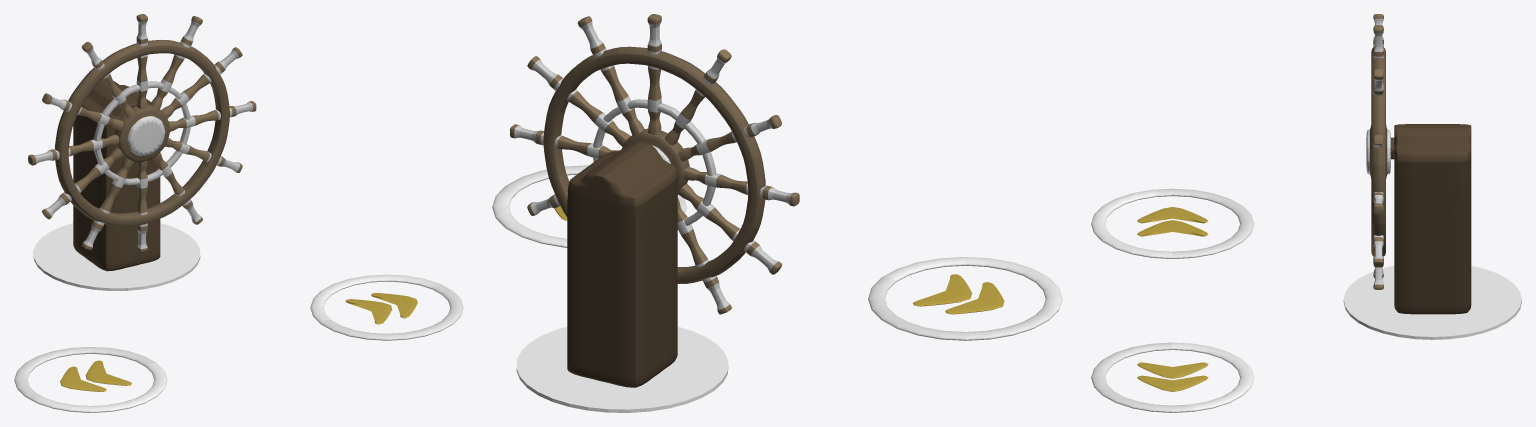
3 views of the same model, side by side, from view 1: azimuth 30°, elevation 25°; view 2: azimuth 150°, elevation 25°; view 3: azimuth 270°, elevation 25° (orthographic). The views are drawn at different scales.
Visible parts, largest first — view 1: WHEEL, CARRIER, SOFT_PAD, DIRECTION_PAD_LEFT, DIRECTION_PAD_RIGHT, ARROW_RIGHT, ARROW_LEFT; view 2: CARRIER, WHEEL, SOFT_PAD, DIRECTION_PAD_LEFT, DIRECTION_PAD_RIGHT, ARROW_LEFT; view 3: CARRIER, SOFT_PAD, WHEEL, DIRECTION_PAD_RIGHT, DIRECTION_PAD_LEFT, ARROW_LEFT, ARROW_RIGHT.
Boxes of the visible parts, box(x1,y1,x2,y2) form: WHEEL: box(28, 14, 256, 252); CARRIER: box(73, 79, 160, 271); SOFT_PAD: box(33, 223, 200, 290); DIRECTION_PAD_LEFT: box(14, 347, 167, 412); DIRECTION_PAD_RIGHT: box(310, 274, 463, 340); ARROW_RIGHT: box(345, 293, 417, 324); ARROW_LEFT: box(60, 360, 131, 391); CARRIER: box(567, 141, 677, 387); WHEEL: box(510, 14, 799, 314); SOFT_PAD: box(516, 326, 728, 412); DIRECTION_PAD_LEFT: box(868, 257, 1062, 340); DIRECTION_PAD_RIGHT: box(492, 165, 686, 247); ARROW_LEFT: box(913, 274, 1004, 314); CARRIER: box(1390, 124, 1471, 314); SOFT_PAD: box(1343, 265, 1521, 339); WHEEL: box(1366, 14, 1390, 289); DIRECTION_PAD_RIGHT: box(1091, 342, 1254, 412); DIRECTION_PAD_LEFT: box(1091, 188, 1254, 258); ARROW_LEFT: box(1137, 207, 1208, 236); ARROW_RIGHT: box(1137, 362, 1208, 391).
Size of the model in its own units: 2.03 by 1.17 by 1.66.
1 material, 1 textured.
